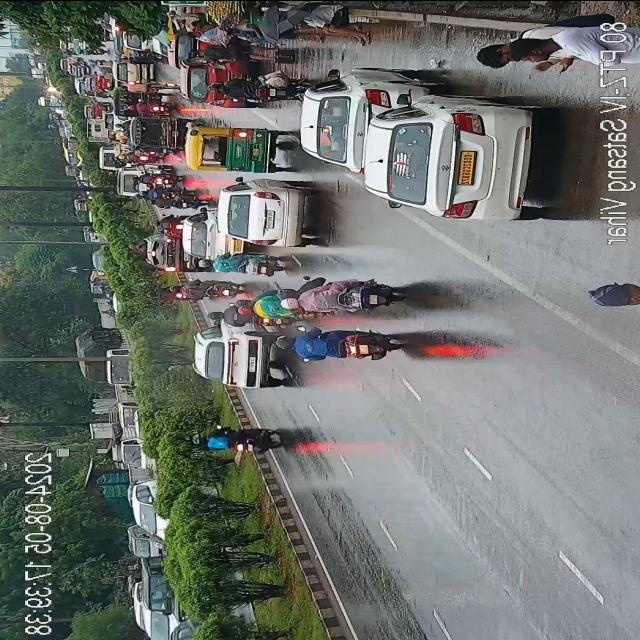2-wheelers: (275, 326, 405, 366), (278, 276, 406, 316), (184, 423, 284, 454), (192, 250, 286, 276), (210, 74, 298, 100), (205, 306, 287, 330), (162, 280, 248, 298), (130, 171, 180, 196), (234, 293, 280, 316), (145, 193, 209, 209), (120, 94, 170, 112), (126, 100, 172, 116), (142, 287, 190, 301), (147, 217, 187, 231), (120, 150, 164, 162), (108, 120, 126, 142)
auto: (187, 121, 277, 174), (127, 117, 187, 147)
car: (362, 94, 536, 222), (300, 72, 407, 166), (215, 177, 312, 246), (195, 322, 273, 392), (185, 204, 232, 264), (183, 58, 232, 106), (138, 557, 180, 611), (141, 234, 197, 272), (134, 484, 172, 532), (140, 609, 176, 640), (116, 58, 152, 88), (122, 30, 152, 51), (97, 144, 120, 168), (116, 166, 134, 196), (62, 56, 84, 72), (84, 76, 108, 90), (83, 102, 105, 116)
pedestrian: (514, 28, 602, 74), (577, 270, 640, 312), (222, 22, 314, 46), (465, 33, 522, 69), (300, 8, 372, 36), (185, 44, 279, 60), (188, 28, 224, 38)
truck: (82, 119, 106, 142)
